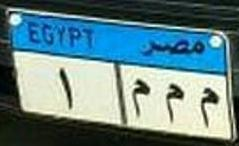1: (58, 67, 74, 109)
meem: (198, 84, 221, 129), (129, 77, 151, 118), (163, 84, 186, 122)
